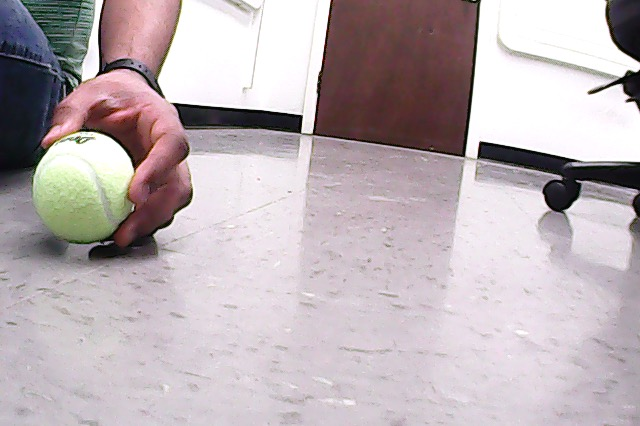ball: (34, 132, 136, 244)
